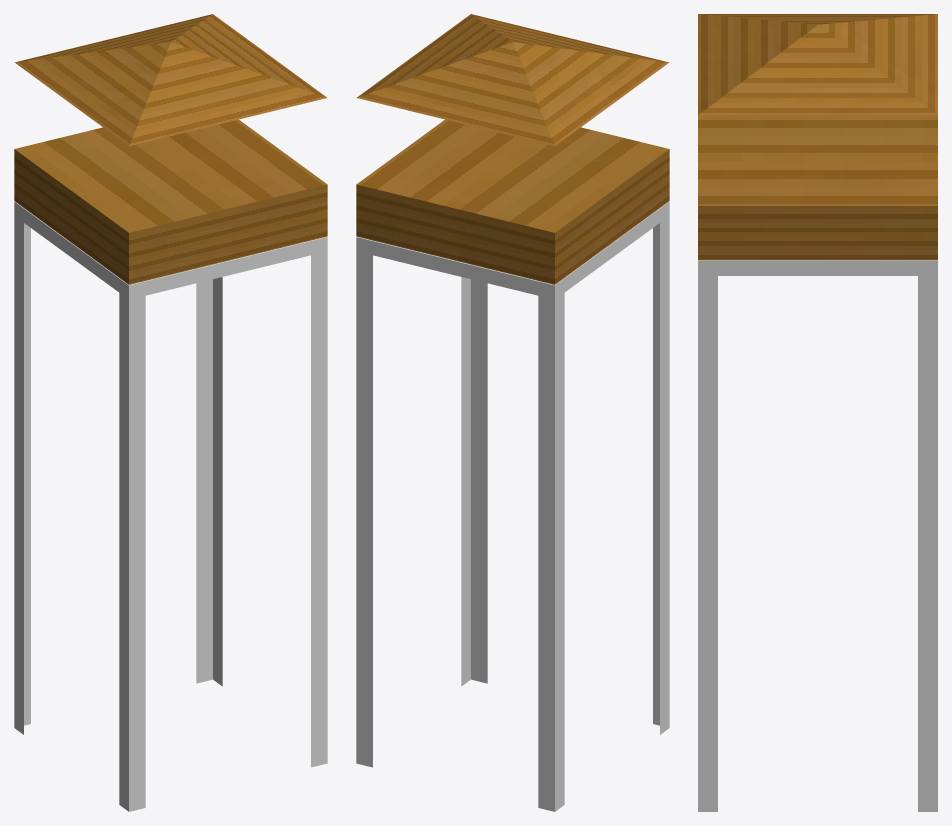
The model's file is Tower 1_2 LowPoly.fbx.
The picture shows the model from 3 angles, left to right: view 1: azimuth 30°, elevation 25°; view 2: azimuth 150°, elevation 25°; view 3: azimuth 270°, elevation 25°; orthographic projection. The views are drawn at different scales.
Parts seen in each view (by area): view 1: Tower Legs LOD, Tower Wood LOD, Tower Wood 2 LOD; view 2: Tower Legs LOD, Tower Wood LOD, Tower Wood 2 LOD; view 3: Tower Wood LOD, Tower Legs LOD, Tower Wood 2 LOD.
Part boxes in pixels (box(x1,y1,x2,y2)): Tower Legs LOD: box(14, 201, 327, 811); Tower Wood LOD: box(14, 119, 327, 284); Tower Wood 2 LOD: box(14, 14, 326, 146); Tower Legs LOD: box(356, 201, 669, 811); Tower Wood LOD: box(356, 119, 669, 284); Tower Wood 2 LOD: box(357, 14, 669, 146); Tower Wood LOD: box(698, 115, 937, 260); Tower Legs LOD: box(698, 260, 937, 811); Tower Wood 2 LOD: box(698, 14, 937, 115).
Bounding box in the file's own units: 600 × 2032 × 600.
Materials: 1 (1 with a texture image).
